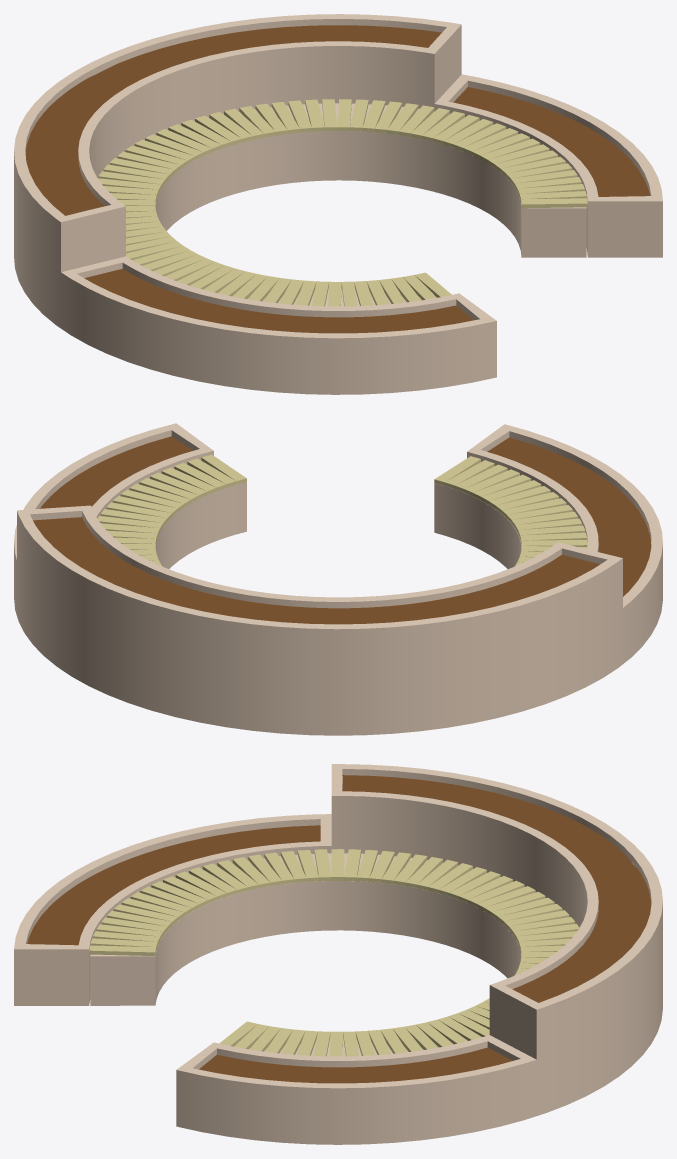
File: uploads_files_3437220_Format4.fbx
3 views of the same model, one above another, from view 1: azimuth 30°, elevation 25°; view 2: azimuth 150°, elevation 25°; view 3: azimuth 270°, elevation 25° (orthographic).
Parts seen in each view (by area): view 1: Vollkörper_Subtraktion_Sitzfläche, Extrusionskörper_Sitzfläche, Vollkörper_Subtraktion, Extrusionskörper_Sitzfläche_3, Extrusionskörper_Sitzfläche_2; view 2: Vollkörper_Subtraktion_Sitzfläche, Extrusionskörper_Sitzfläche, Extrusionskörper_Sitzfläche_3, Extrusionskörper_Sitzfläche_2, Vollkörper_Subtraktion; view 3: Vollkörper_Subtraktion_Sitzfläche, Extrusionskörper_Sitzfläche, Vollkörper_Subtraktion, Extrusionskörper_Sitzfläche_3, Extrusionskörper_Sitzfläche_2.
Part boxes in pixels (x1,y1,x2,y2): Vollkörper_Subtraktion_Sitzfläche: (14,14,662,394); Extrusionskörper_Sitzfläche: (98,99,587,306); Vollkörper_Subtraktion: (155,103,586,306); Extrusionskörper_Sitzfläche_3: (25,25,441,215); Extrusionskörper_Sitzfläche_2: (84,87,649,333); Vollkörper_Subtraktion_Sitzfläche: (14,423,662,735); Extrusionskörper_Sitzfläche: (97,454,587,566); Extrusionskörper_Sitzfläche_3: (33,517,600,624); Extrusionskörper_Sitzfläche_2: (40,436,651,596); Vollkörper_Subtraktion: (155,482,521,568); Vollkörper_Subtraktion_Sitzfläche: (14,764,662,1144); Extrusionskörper_Sitzfläche: (89,849,579,1056); Vollkörper_Subtraktion: (90,853,521,1056); Extrusionskörper_Sitzfläche_3: (342,775,651,1002); Extrusionskörper_Sitzfläche_2: (27,825,512,1083).
Bounding box in the file's own units: 4961 × 899 × 4961.
